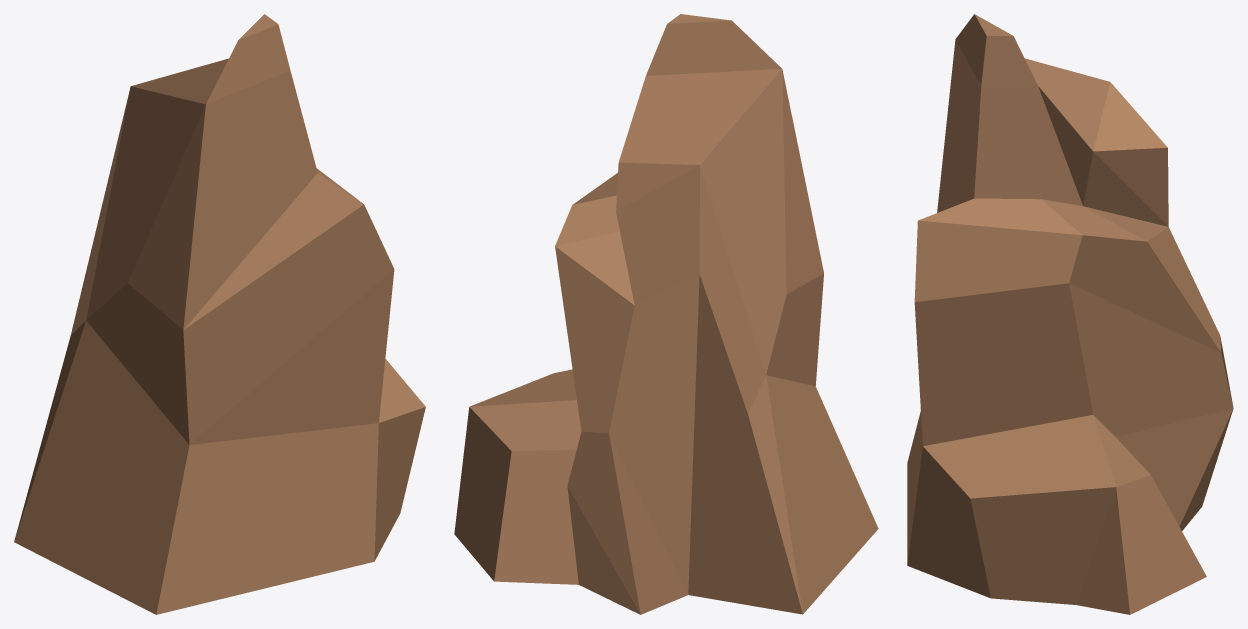
The model's file is Shore_rocks_07.fbx.
3 renders of one model, left to right at view 1: azimuth 30°, elevation 25°; view 2: azimuth 150°, elevation 25°; view 3: azimuth 270°, elevation 25°, orthographic. The views are drawn at different scales.
Parts seen in each view (by area): view 1: shore_rock_07; view 2: shore_rock_07; view 3: shore_rock_07.
Boxes of the visible parts, bbox=[...] form: shore_rock_07: bbox=[14, 14, 425, 614]; shore_rock_07: bbox=[454, 14, 878, 614]; shore_rock_07: bbox=[907, 14, 1233, 614].
Size of the model in its own units: 723 by 1015 by 596.
